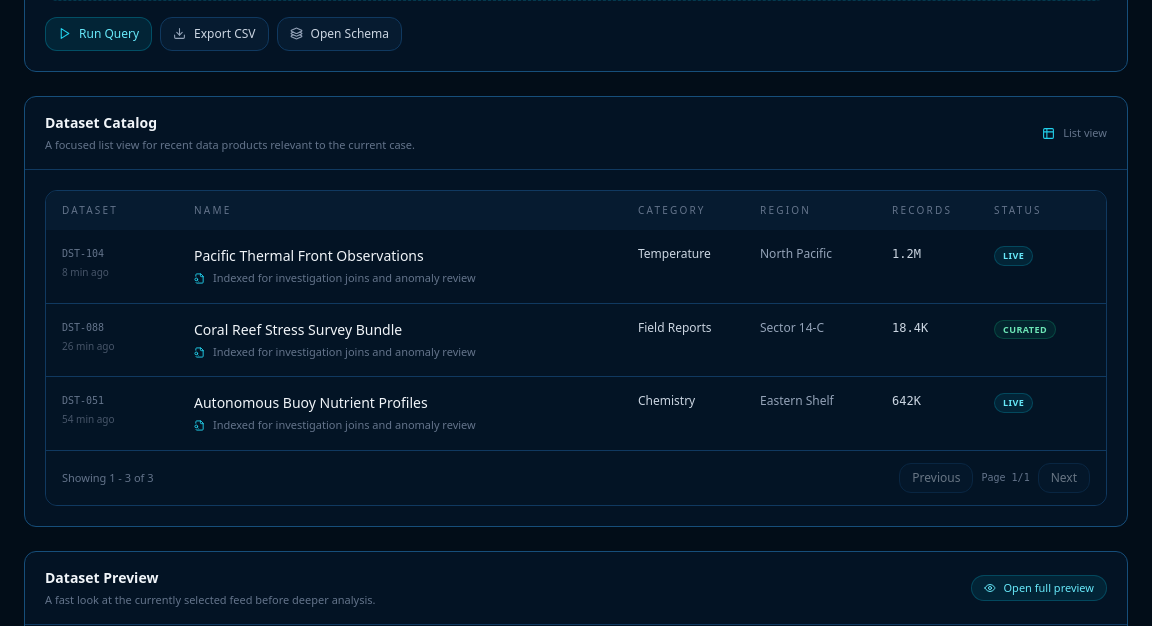
Test: selection resets to the first dataset when the previous selection is absent after refresh
The width and height of the screenshot is (1152, 626).
(page scrolled)
Click the button "Coral Reef Stress Survey Bundle". click: (83, 327)
box: [46,303,1106,376]
(page scrolled)
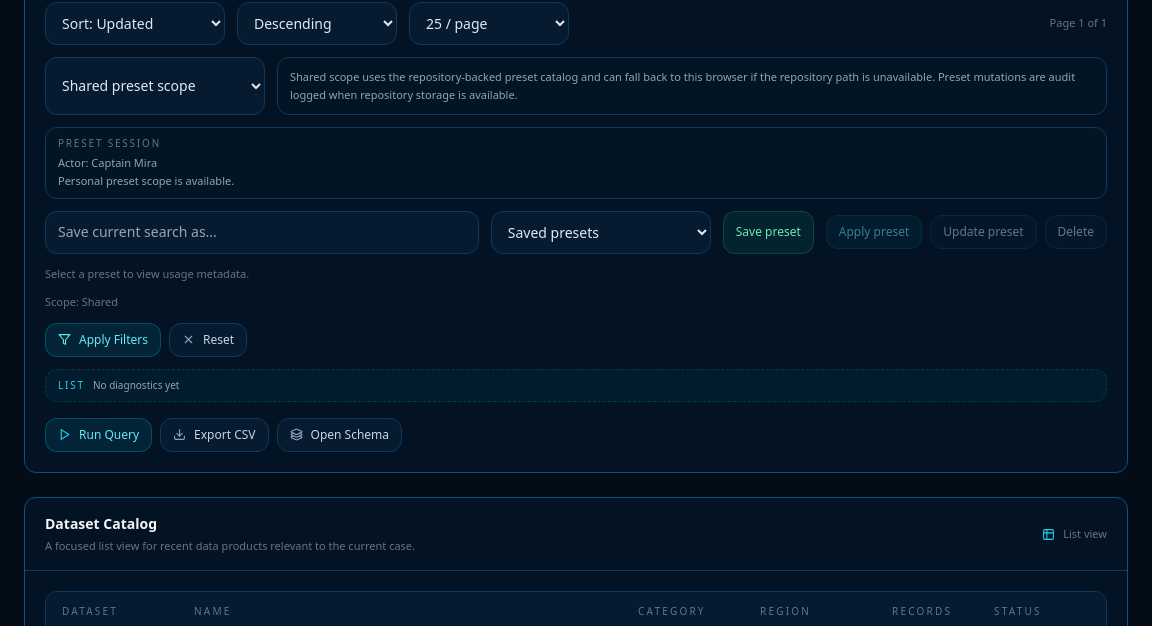
Click the button "Apply Filters". click: (103, 340)
box: [45,323,161,357]
(page scrolled)
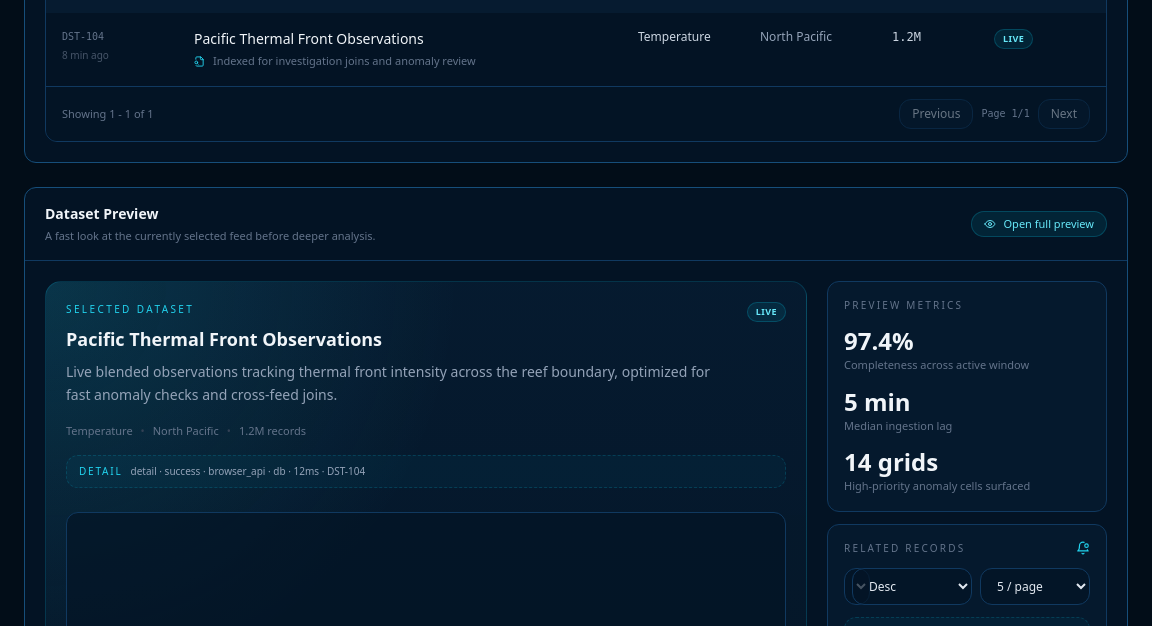
Check: the heading "Pacific Thermal Front Observations" is shown, box [66,327,382,351]
